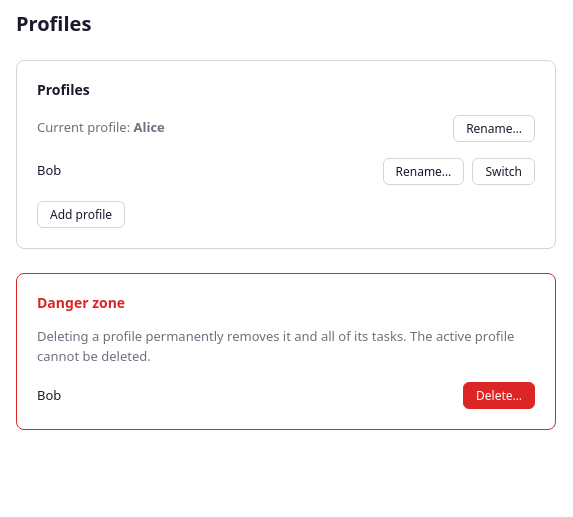
Test case: ProfilesView — create profile › creates a profile, toasts, and refreshes the list
Click the button "Add profile" at (81,214), box [37,200,125,228]
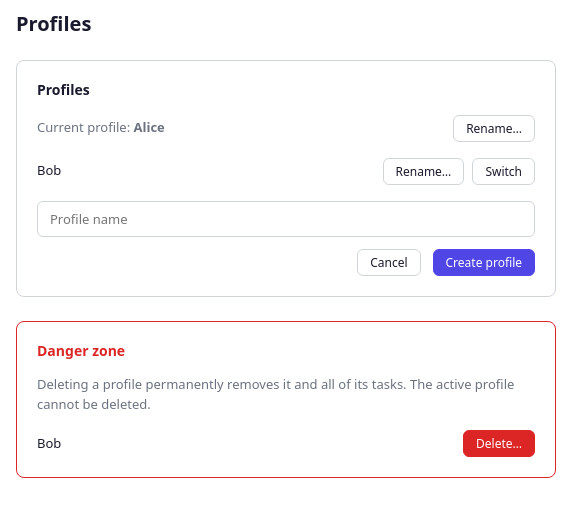
Type "Carol" into the field labelled "Profile name" at (286,218), box [37,200,535,236]
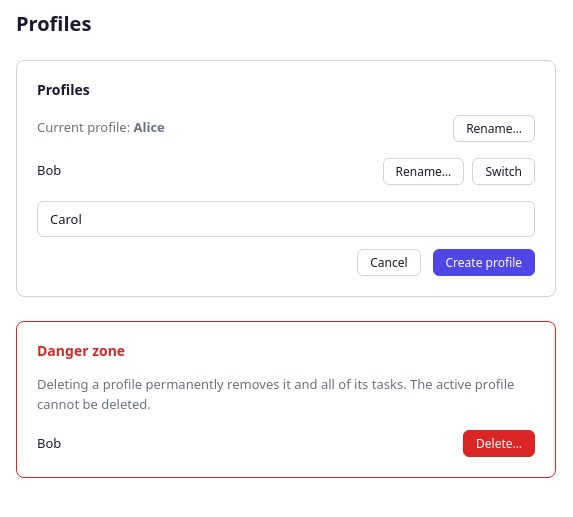
Submit the form, box [37,200,535,276]
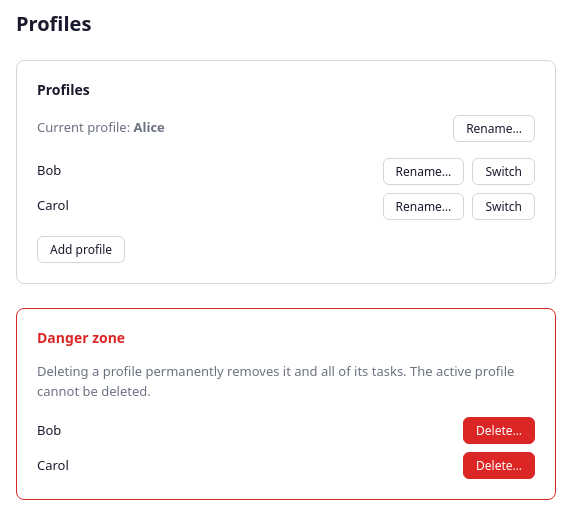
Result: the text "Carol" is shown 2 times at [37,196,69,216]; [37,456,69,475]
